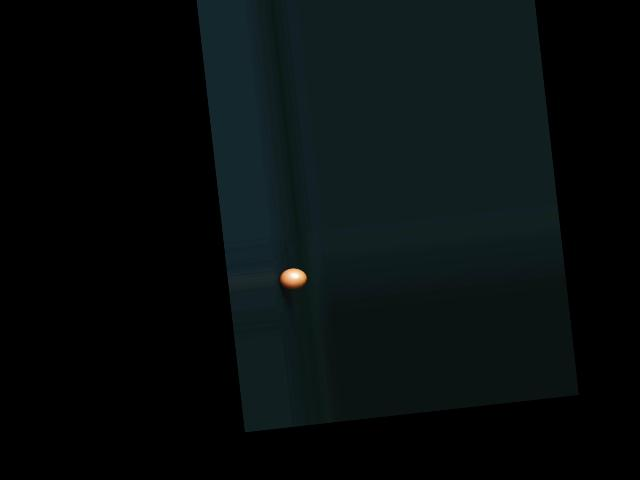egg: (278, 267, 307, 291)
